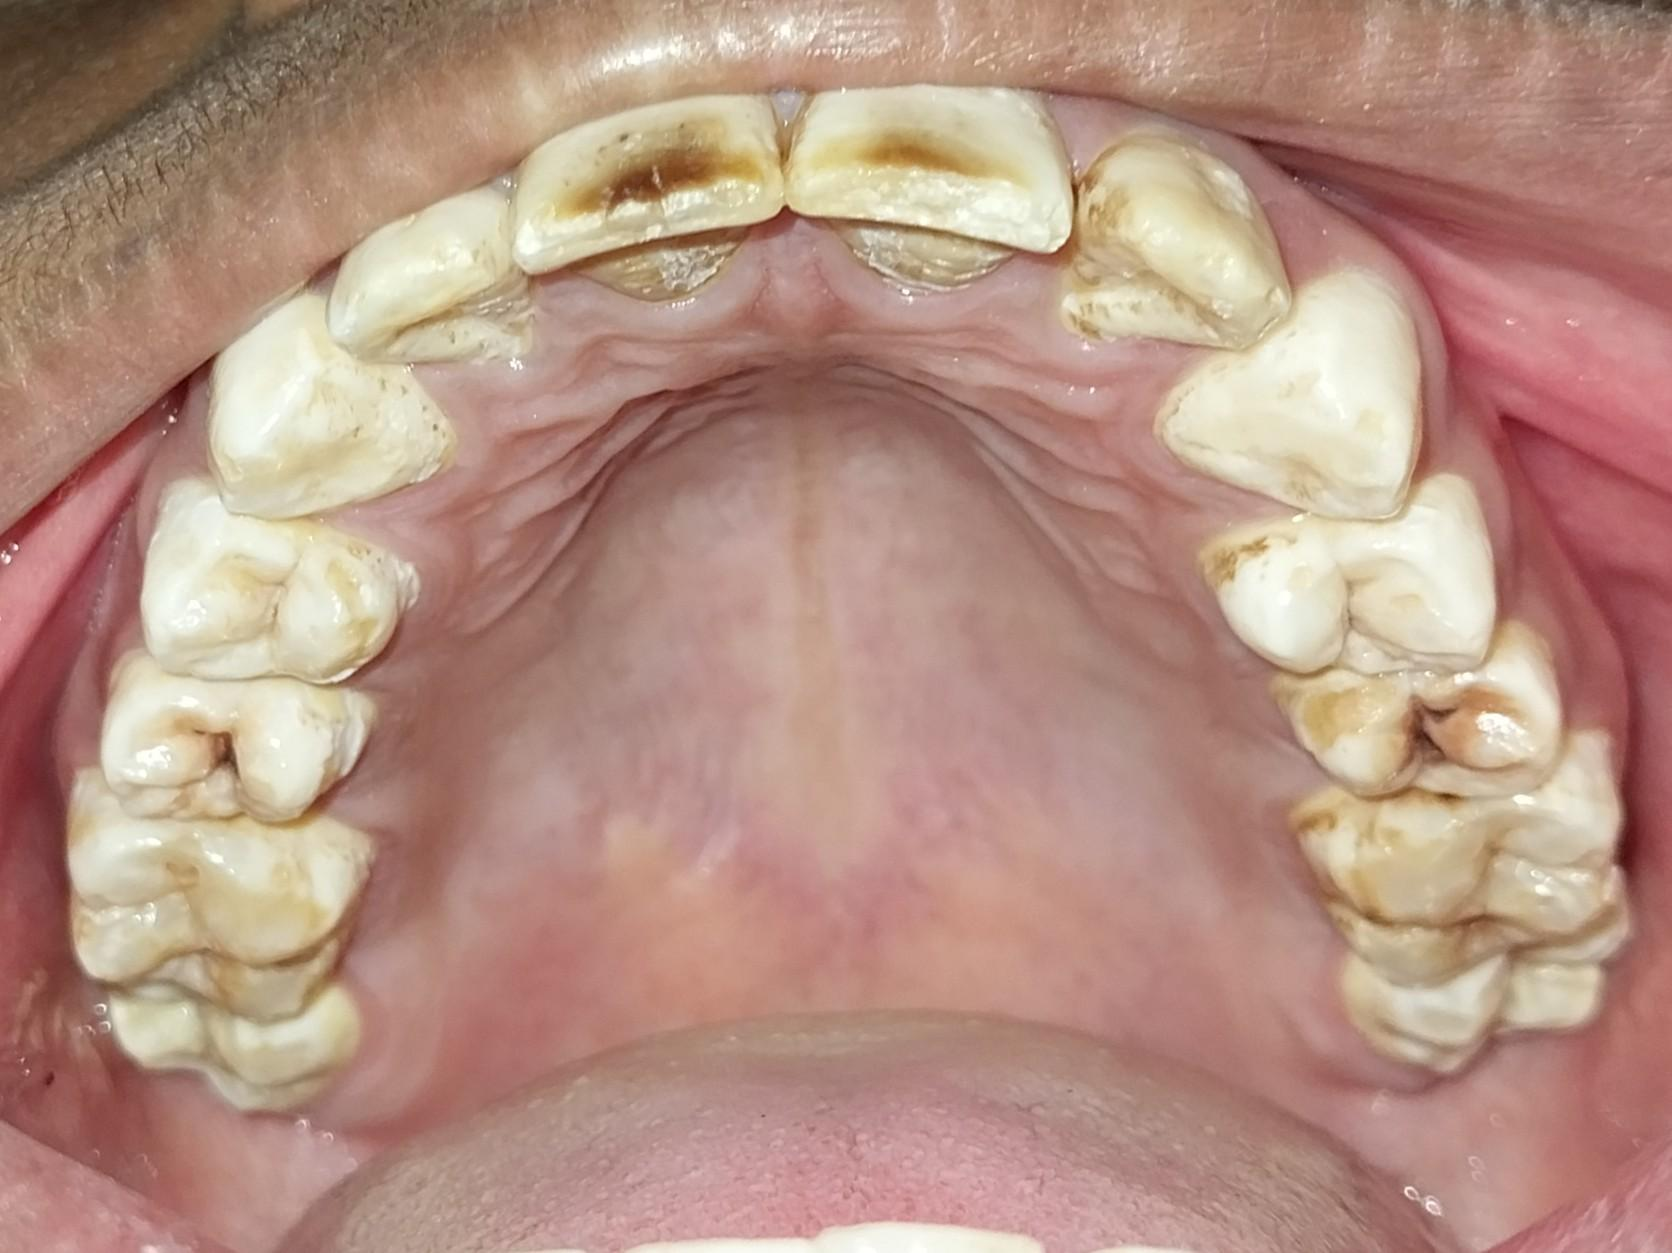D: (1277, 635, 1573, 803), (100, 660, 370, 829)
